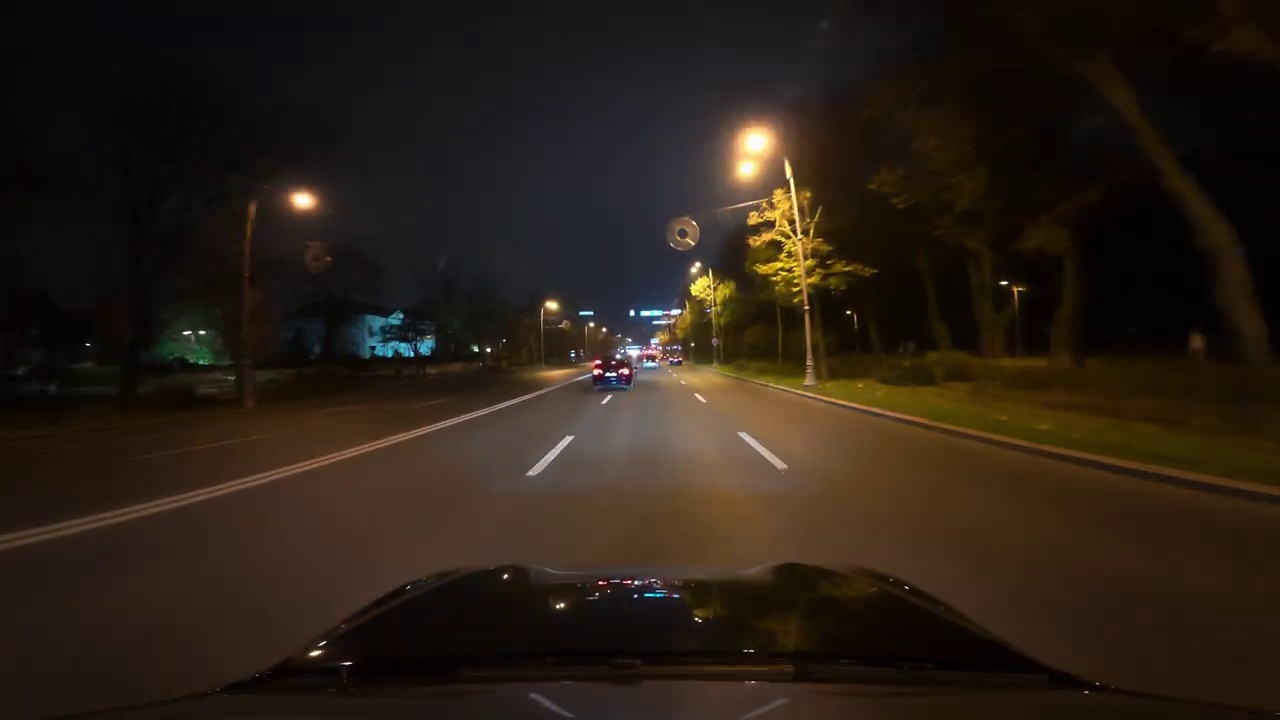acesa: (733, 126, 775, 182), (286, 187, 319, 215), (673, 218, 700, 248), (540, 297, 563, 318)
